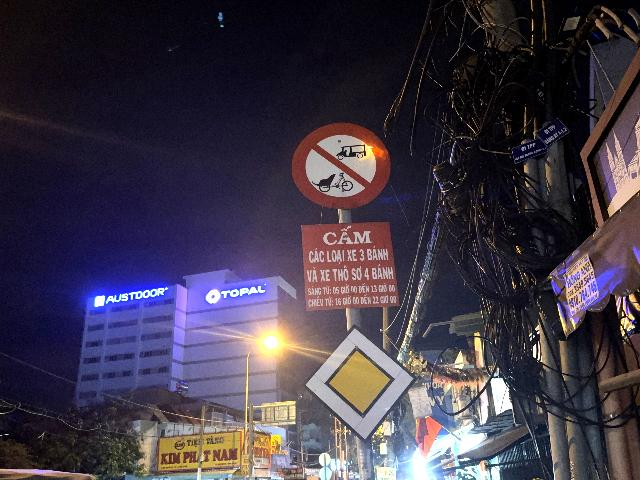bat-dau-duong-uu-tien: (302, 324, 419, 443)
cam-xe-3-banh-xe-tho-so-4-banh: (291, 121, 391, 210)
